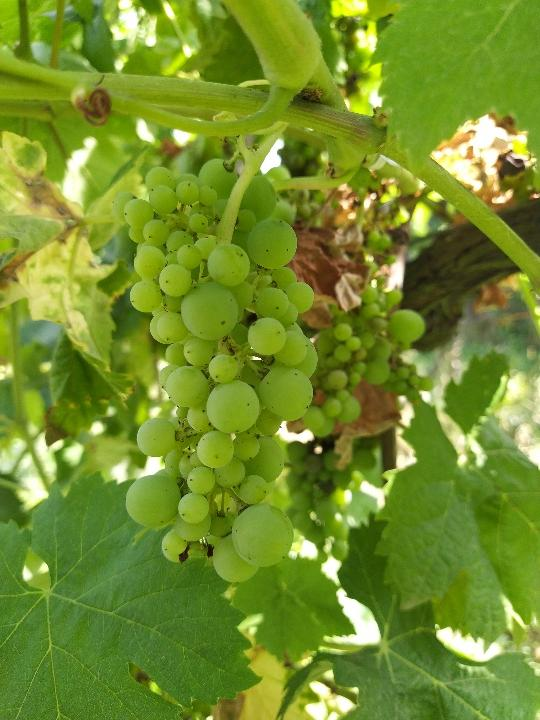grape: (120, 154, 319, 584)
